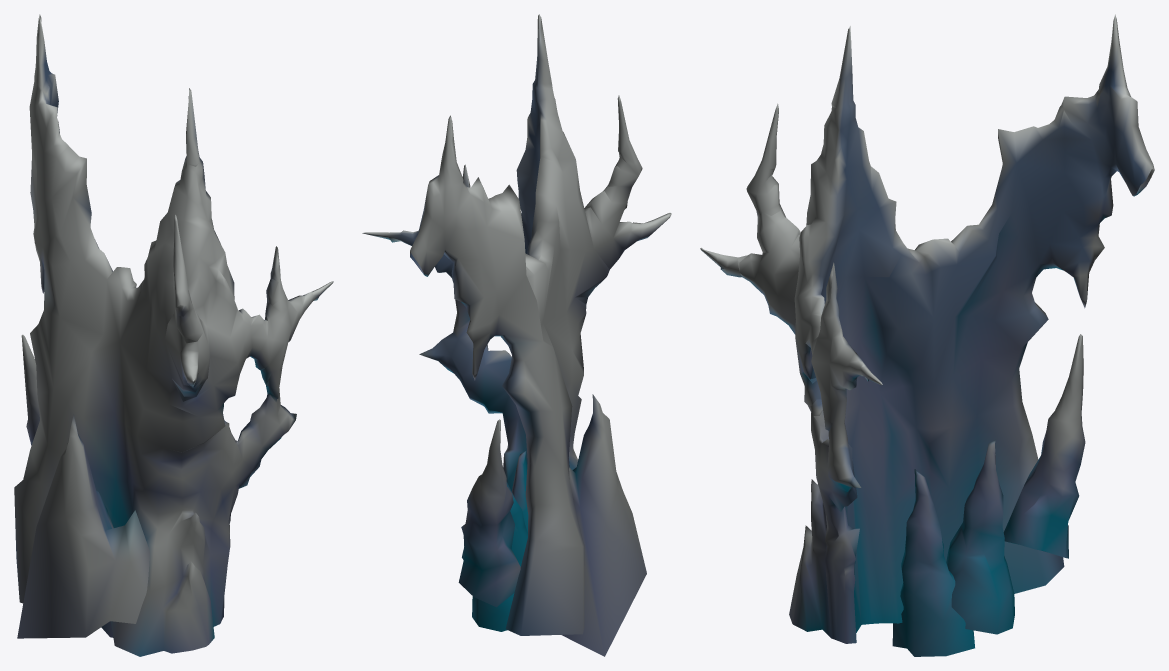
3 renders of one model, left to right at view 1: azimuth 30°, elevation 25°; view 2: azimuth 150°, elevation 25°; view 3: azimuth 270°, elevation 25°, orthographic. The views are drawn at different scales.
Visible parts, largest first — view 1: G:\FFXIV-MapTools\exports\w1f5\bg\ffxiv\wil_w1\fld\w1f5\bgpa; view 2: G:\FFXIV-MapTools\exports\w1f5\bg\ffxiv\wil_w1\fld\w1f5\bgpa; view 3: G:\FFXIV-MapTools\exports\w1f5\bg\ffxiv\wil_w1\fld\w1f5\bgpa.
Part boxes in pixels (x1,y1,x2,y2): G:\FFXIV-MapTools\exports\w1f5\bg\ffxiv\wil_w1\fld\w1f5\bgpa: [14, 14, 333, 656]; G:\FFXIV-MapTools\exports\w1f5\bg\ffxiv\wil_w1\fld\w1f5\bgpa: [362, 14, 671, 656]; G:\FFXIV-MapTools\exports\w1f5\bg\ffxiv\wil_w1\fld\w1f5\bgpa: [700, 14, 1154, 656].
Size of the model in its own units: 162 by 314 by 205.
